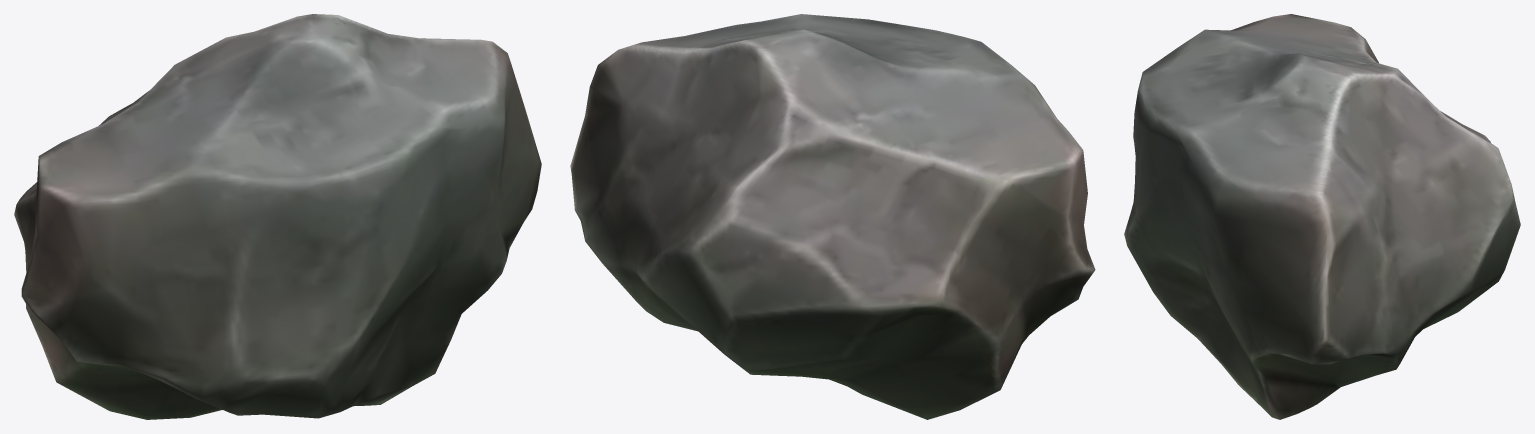
The model's file is stylized-rock-03.glb.
3 views of the same model, side by side, from view 1: azimuth 30°, elevation 25°; view 2: azimuth 150°, elevation 25°; view 3: azimuth 270°, elevation 25° (orthographic). The views are drawn at different scales.
Visible parts, largest first — view 1: Small_3; view 2: Small_3; view 3: Small_3.
Boxes of the visible parts, x1,y1,x2,y2 form: Small_3: [14, 14, 541, 419]; Small_3: [570, 14, 1095, 419]; Small_3: [1124, 14, 1520, 419].
Bounding box in the file's own units: 4.04 × 2.6 × 2.95.
1 material, 1 textured.
